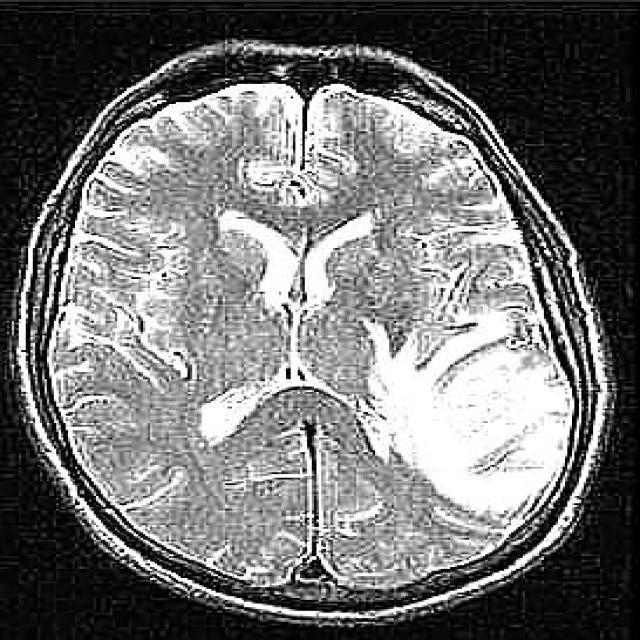Tumor: (360, 310, 583, 518)
